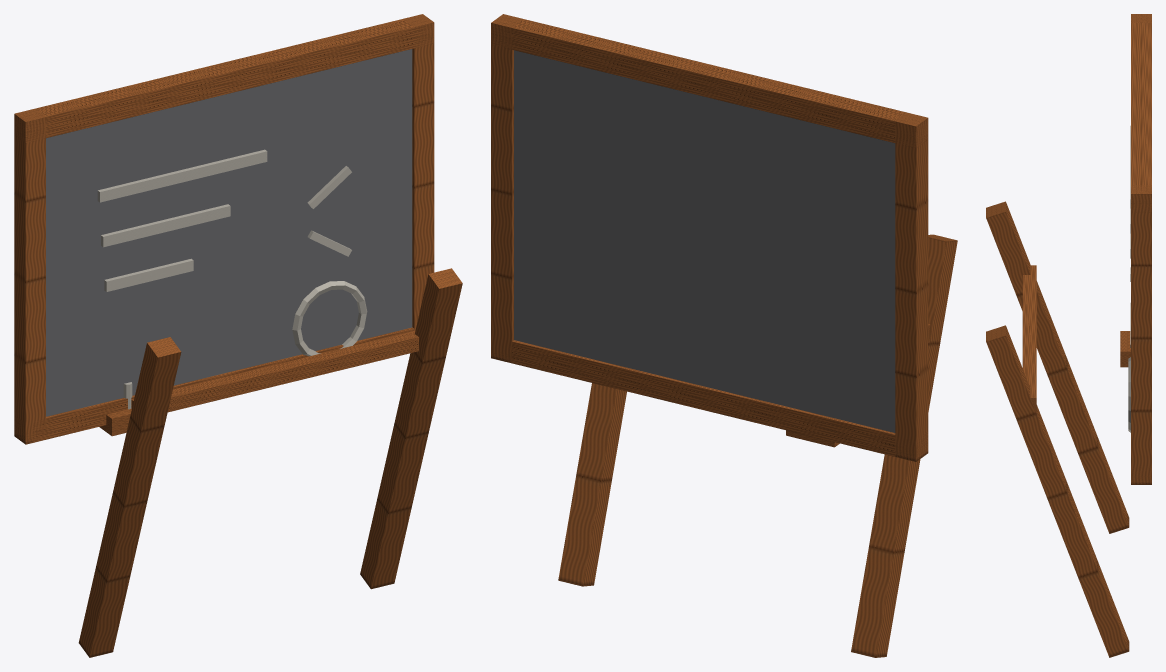
Rendered from chalkboard.glb.
3 renders of one model, left to right at view 1: azimuth 30°, elevation 25°; view 2: azimuth 150°, elevation 25°; view 3: azimuth 270°, elevation 25°, orthographic. The views are drawn at different scales.
Parts seen in each view (by area): view 1: chalkboard-dark, chalkboard-timber, chalkboard-gravel; view 2: chalkboard-dark, chalkboard-timber; view 3: chalkboard-timber, chalkboard-gravel.
Part boxes in pixels (x1,y1,x2,y2): chalkboard-dark: (46,49,412,416); chalkboard-timber: (14,14,462,657); chalkboard-gravel: (97,149,367,409); chalkboard-dark: (514,50,895,432); chalkboard-timber: (491,14,957,657); chalkboard-timber: (986,14,1151,657); chalkboard-gravel: (1128,125,1130,432).
Bounding box in the file's own units: 1.22 × 1.54 × 0.475.
Materials: 3 (2 with a texture image).
